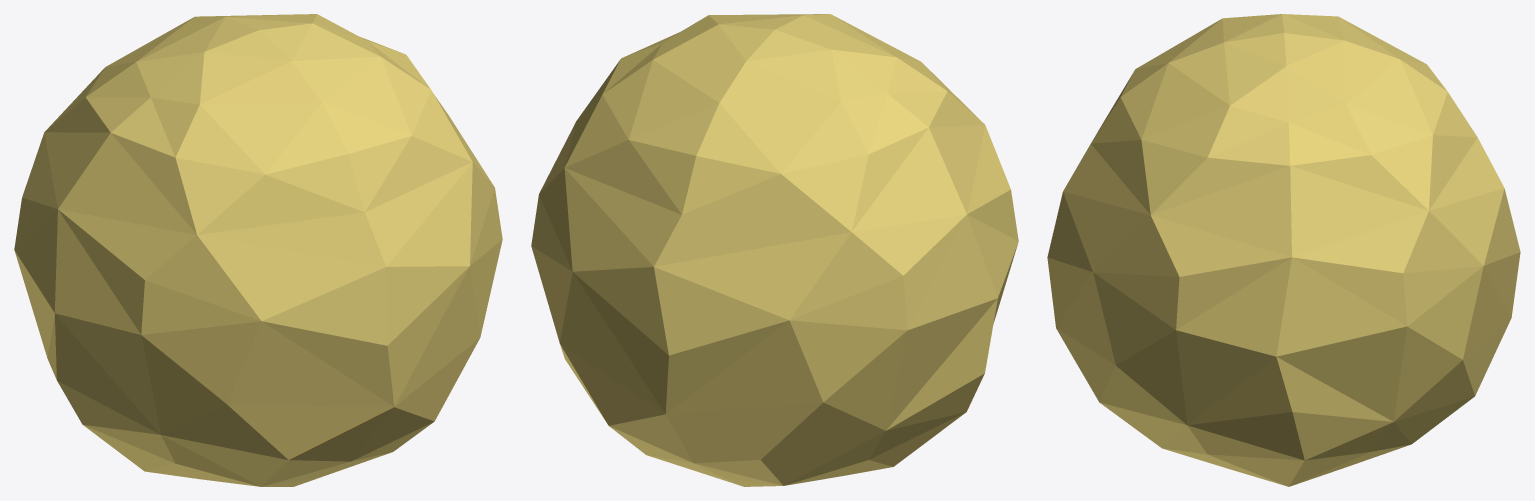
Rendered from moon.fbx.
3 views of the same model, side by side, from view 1: azimuth 30°, elevation 25°; view 2: azimuth 150°, elevation 25°; view 3: azimuth 270°, elevation 25° (orthographic). The views are drawn at different scales.
Visible parts, largest first — view 1: moon; view 2: moon; view 3: moon.
Part boxes in pixels (<box>): moon: <box>14,14,502,486</box>; moon: <box>531,14,1018,486</box>; moon: <box>1047,14,1520,486</box>.
Bounding box in the file's own units: 9.31 × 9.11 × 9.19.
